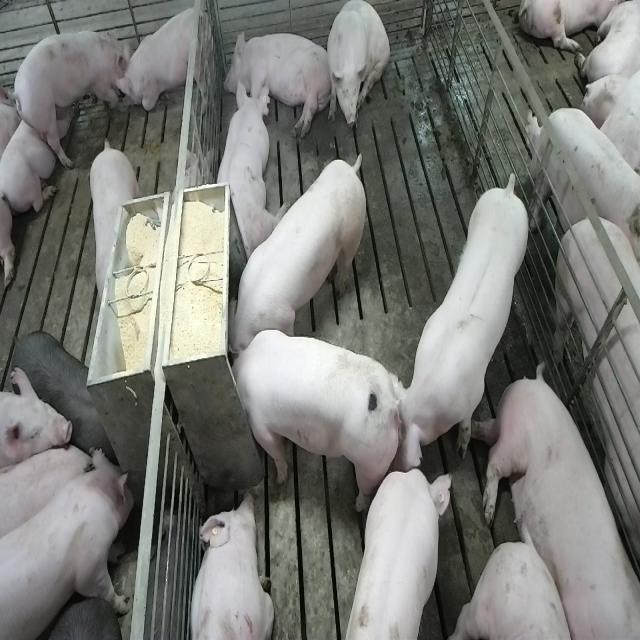Feeding: (222, 329, 394, 514), (229, 144, 371, 359)
Lateral_lying: (472, 363, 637, 640), (223, 28, 333, 140)
Sitting: (120, 0, 217, 126), (326, 2, 390, 136)
Standing: (388, 163, 530, 474), (551, 212, 640, 606), (2, 450, 136, 640), (339, 469, 448, 640), (530, 102, 640, 258), (12, 24, 130, 166), (10, 328, 111, 458), (86, 137, 136, 309)
Sternal_lying: (186, 490, 274, 640), (210, 76, 278, 258), (2, 83, 78, 212)
